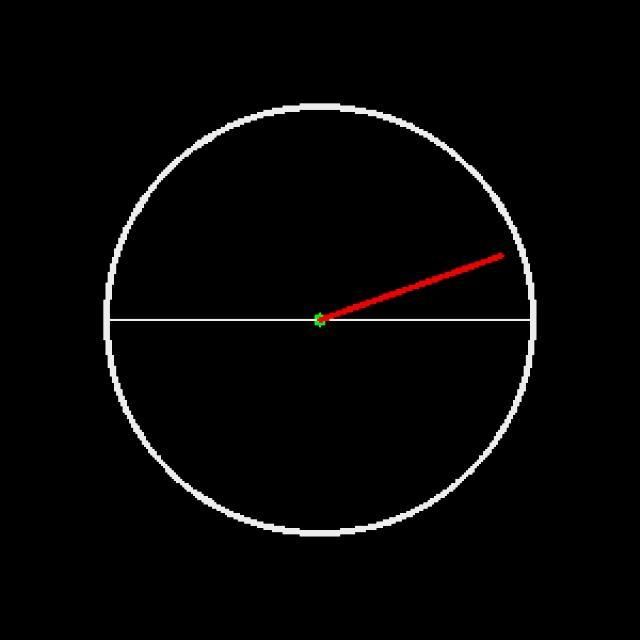Needle_Tip: (475, 239, 517, 285)
Needle_base: (283, 280, 356, 342)
